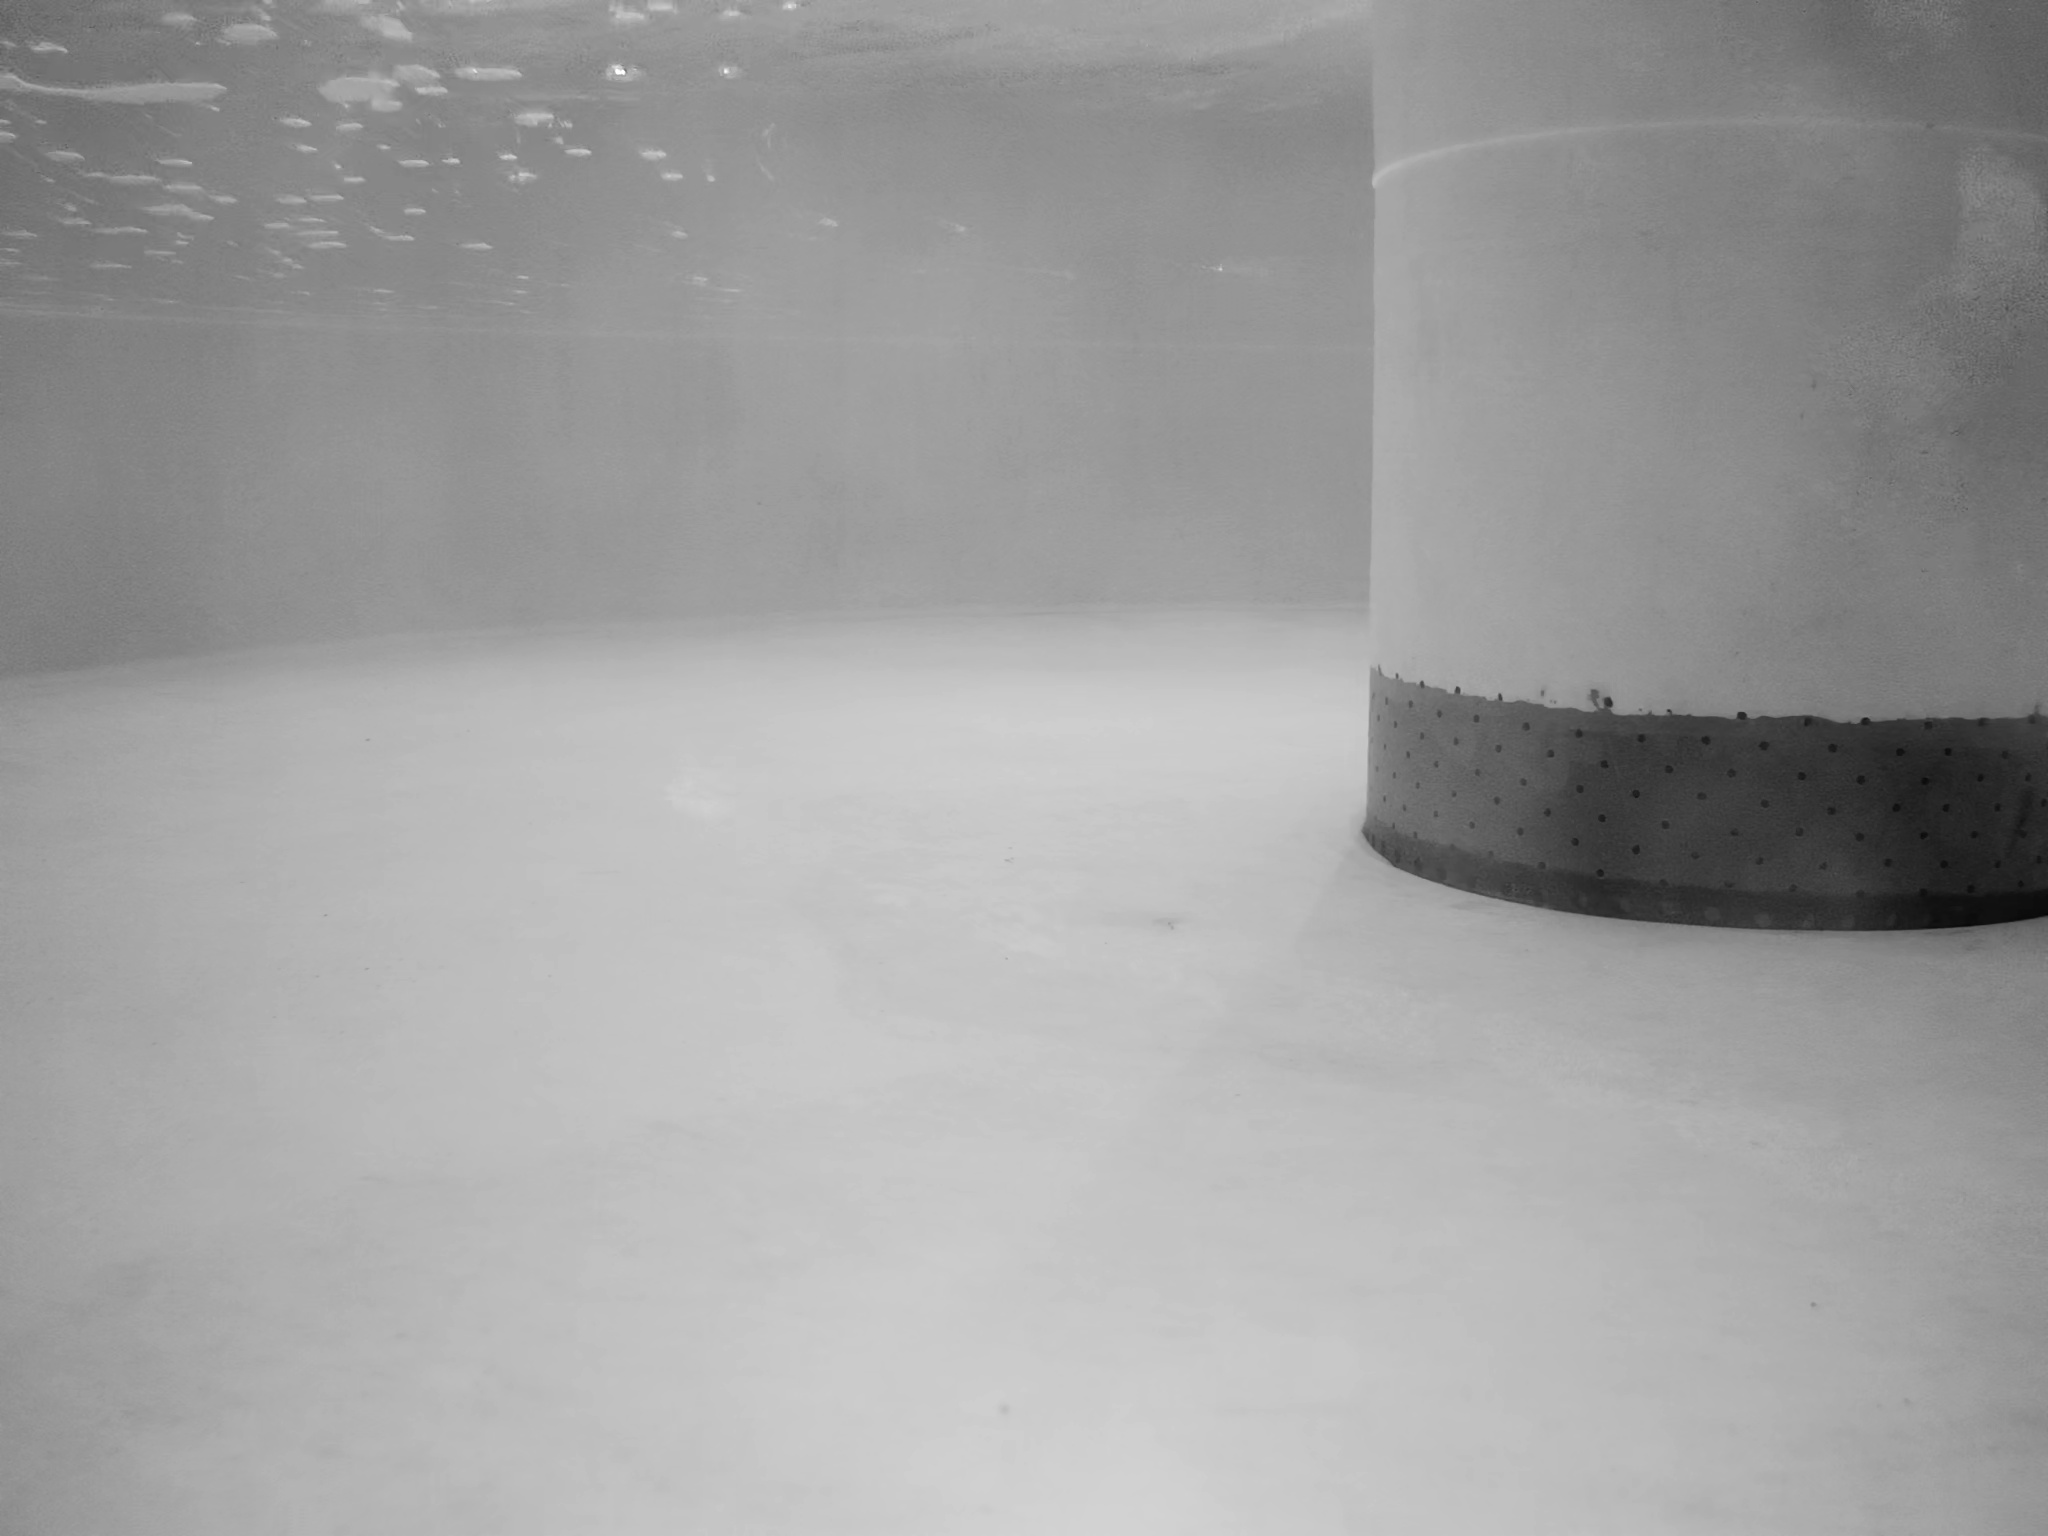fish: (1925, 145, 2048, 402)
